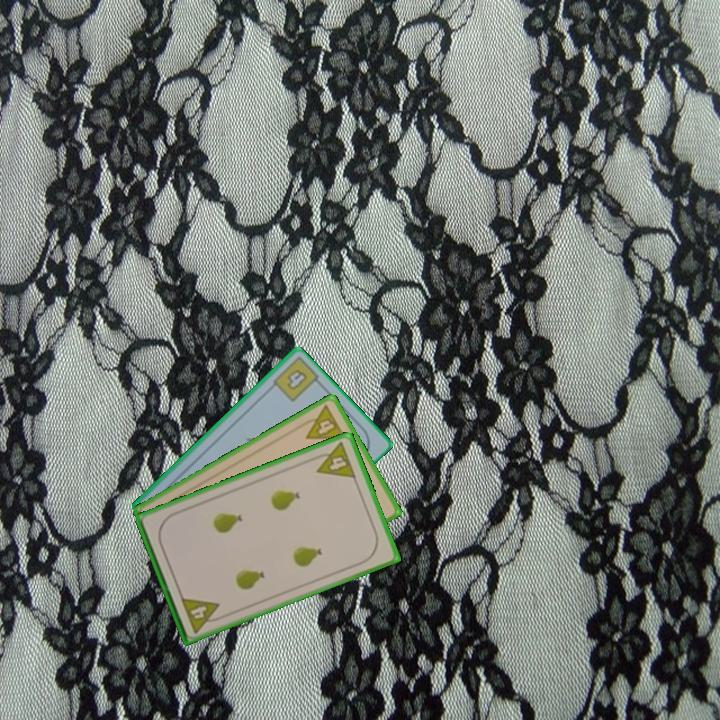4b: (283, 365, 310, 393)
4p: (296, 401, 349, 442), (308, 439, 359, 481), (177, 593, 226, 636)
